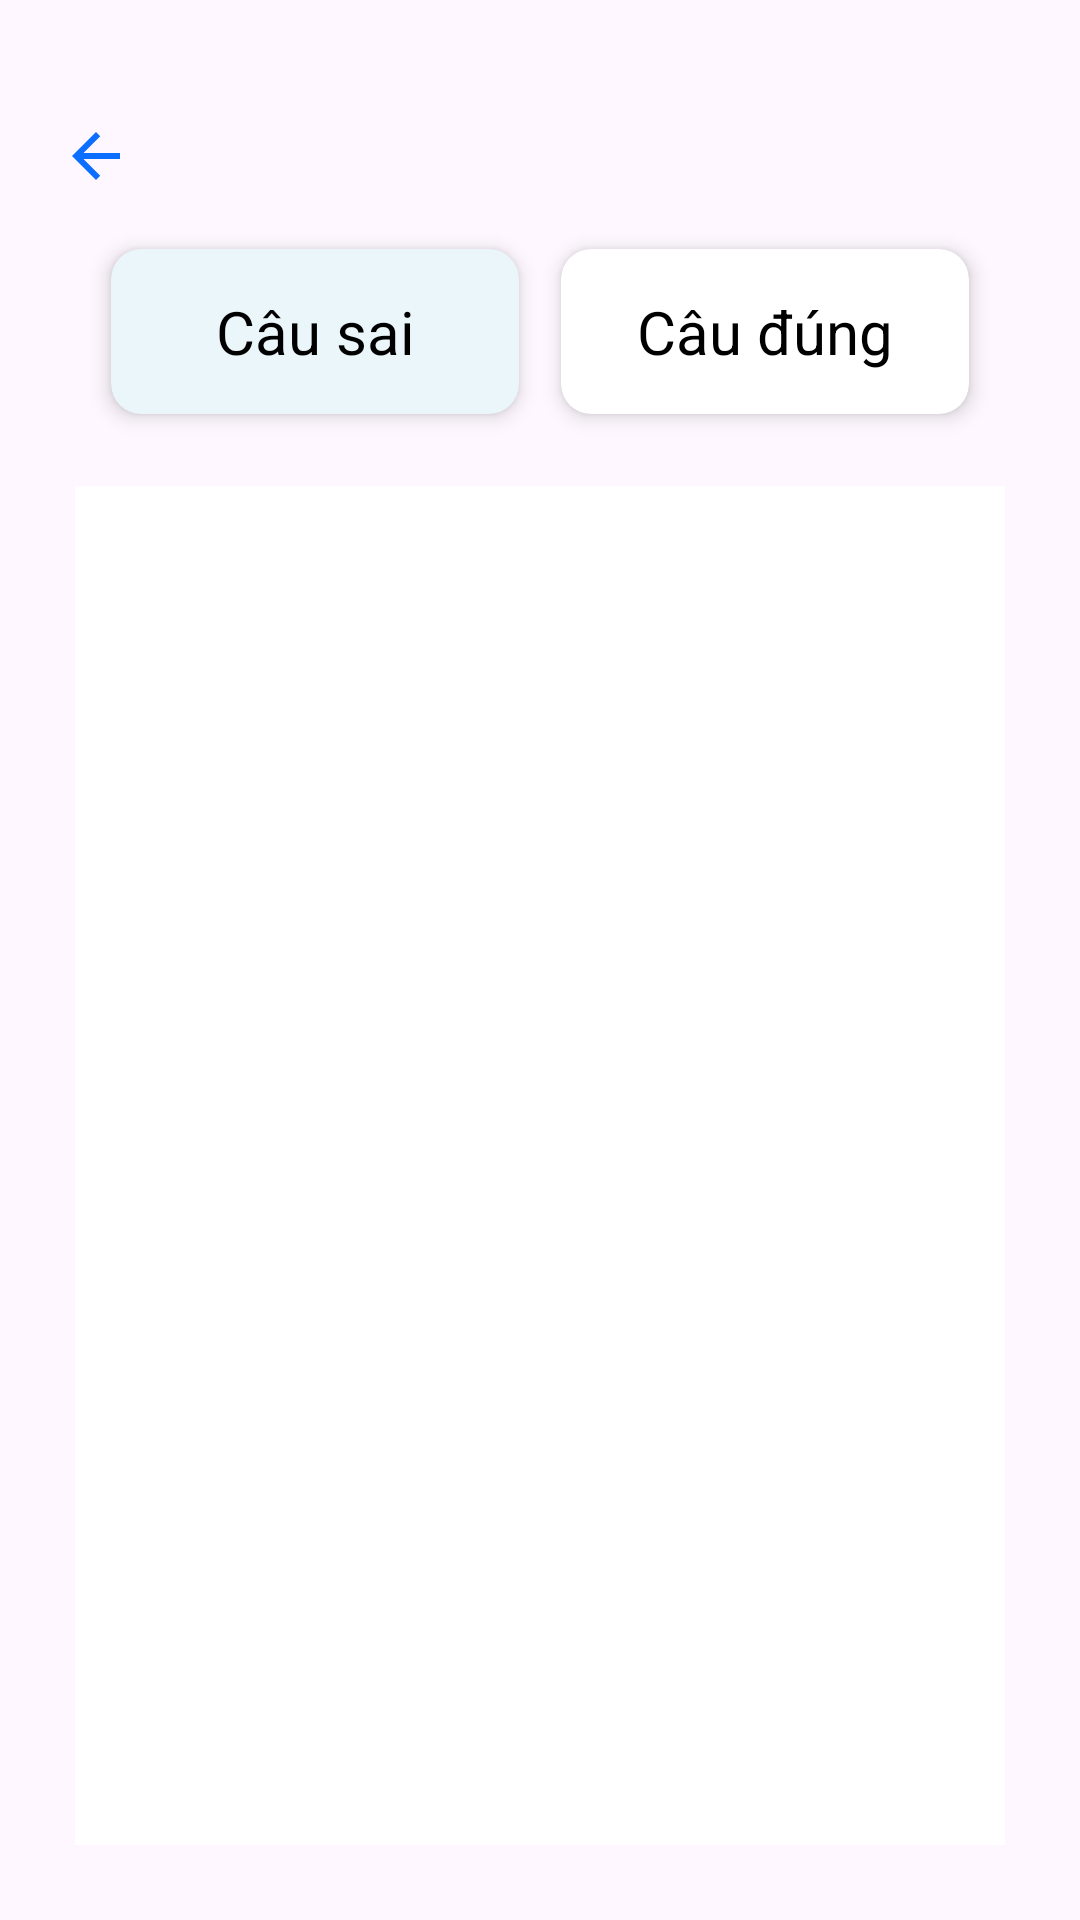

Named icons in this screenshot (1080 × 1920) and their bounding boxes, (left=x1, top=y1, right=x2, bottom=y2):
arrow back: (left=72, top=132, right=120, bottom=180)
